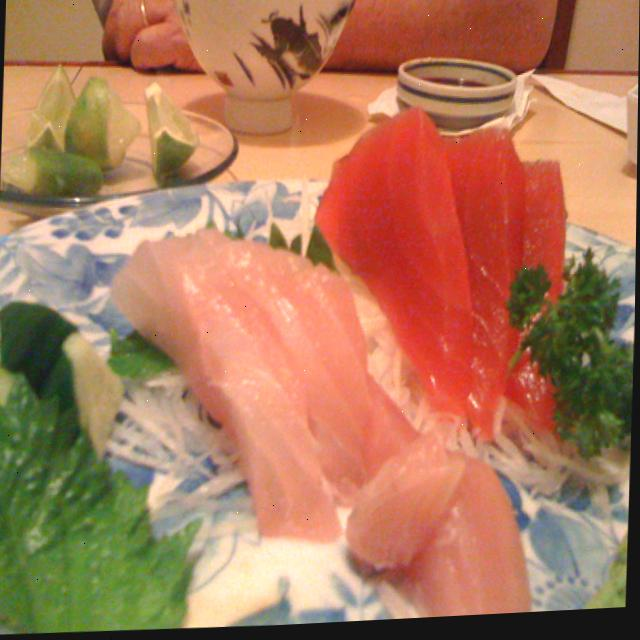刺身生食: (0, 20, 639, 640)
